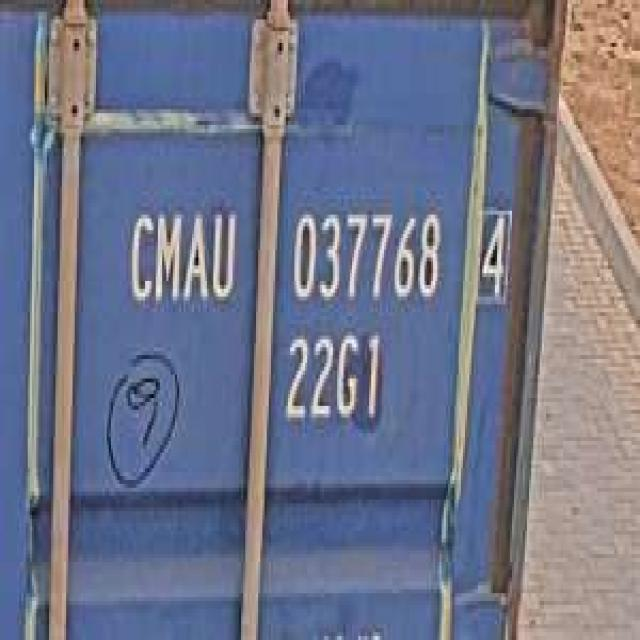dv: (472, 199, 514, 308)
owner: (122, 195, 239, 308)
serial: (284, 199, 444, 308)
size: (280, 324, 388, 433)
